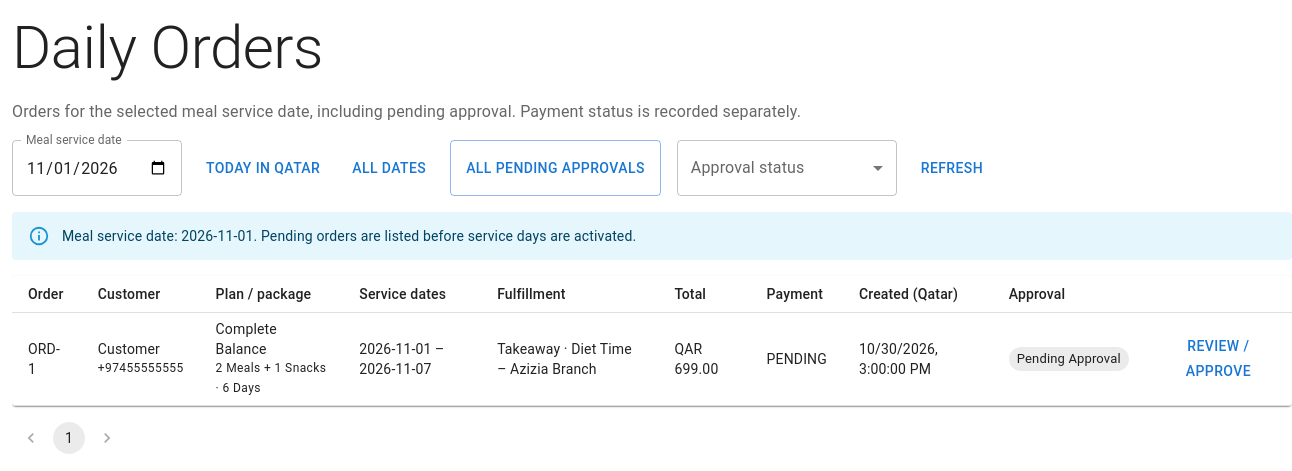
it: Daily orders by meal service date › changes the server-side service date and can show pending orders across all days
Expected: the button "Review / Approve" is shown, [1161,328,1276,389]
Step 1. Type "2026-11-02" into the date field labelled "Meal service date" → (97, 168), box [12,140,182,196]
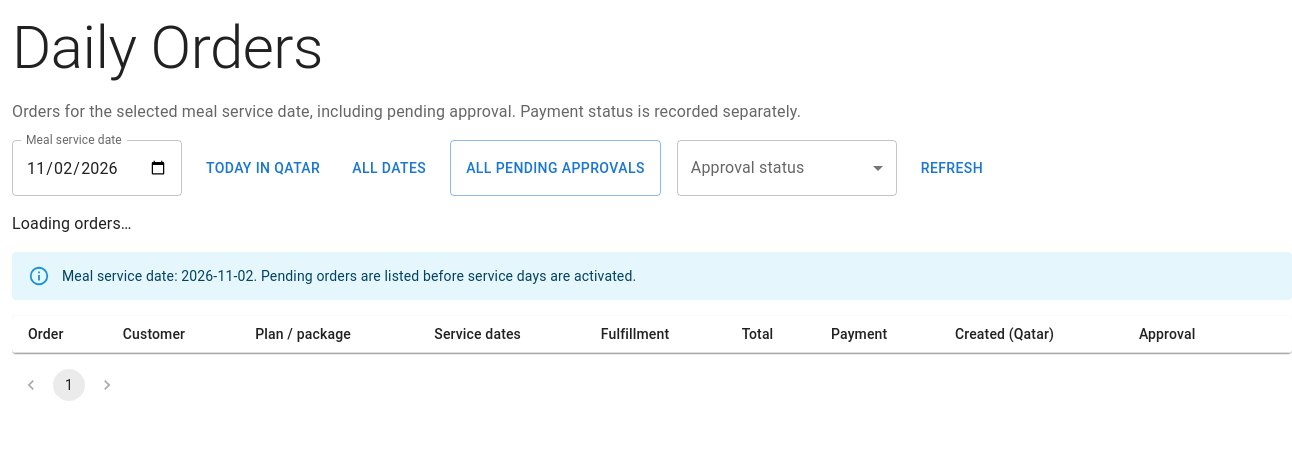
Step 2. Click the button "All pending approvals" → (555, 168), box [450,140,661,196]
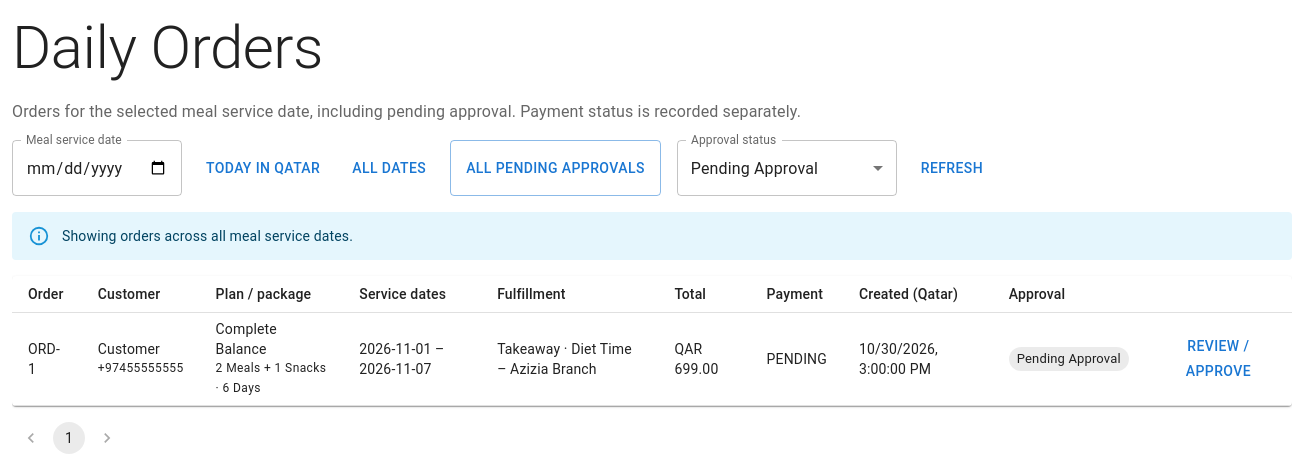
Now the date field labelled "Meal service date" is empty, box [12,140,182,196]
Now the text "Showing orders across all meal service dates." is shown, box [62,228,353,244]
